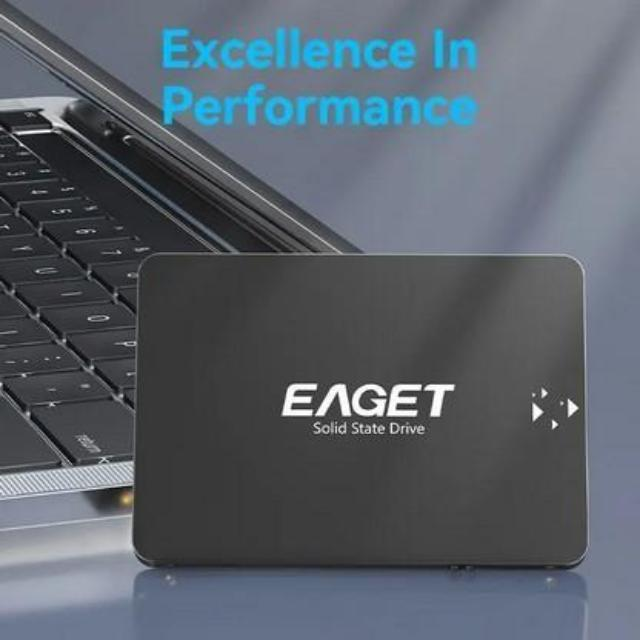DISK: (132, 245, 592, 588)
